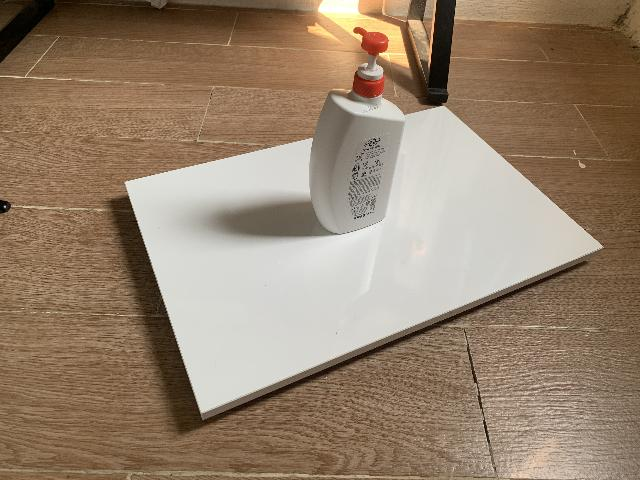life-buoy: (309, 27, 406, 234)
